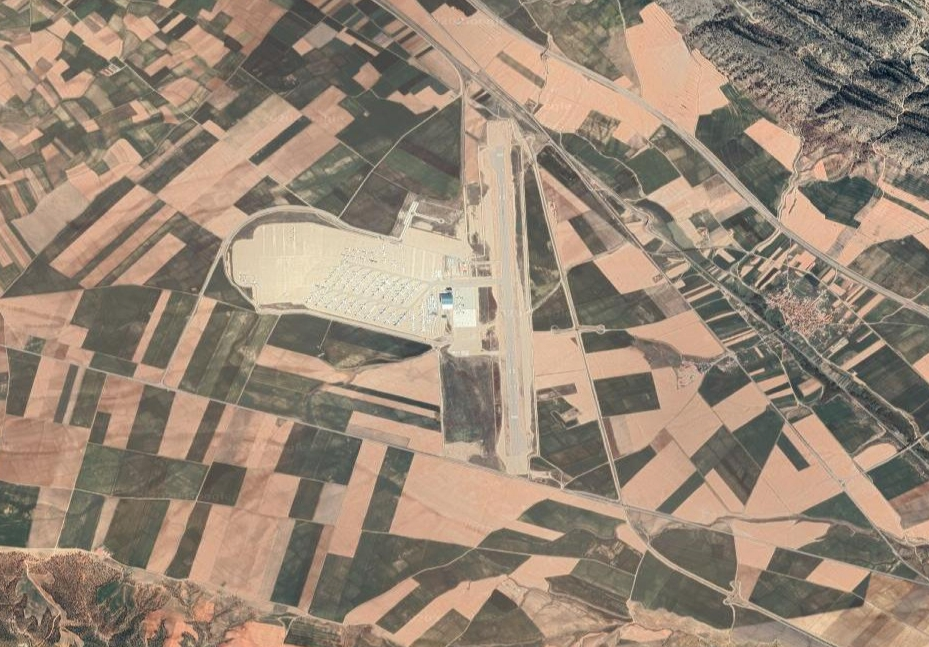airport: (230, 142, 530, 459)
motorway: (739, 187, 808, 248), (684, 132, 745, 189), (538, 44, 613, 90), (613, 85, 688, 130), (466, 1, 541, 45), (806, 243, 877, 289), (601, 440, 631, 516), (580, 364, 610, 440), (563, 287, 593, 363), (543, 209, 573, 285), (879, 288, 929, 332), (624, 516, 668, 559), (444, 50, 488, 92), (724, 590, 783, 621), (666, 564, 725, 595), (783, 616, 833, 647), (528, 142, 551, 209), (371, 1, 413, 24), (412, 23, 445, 52)
